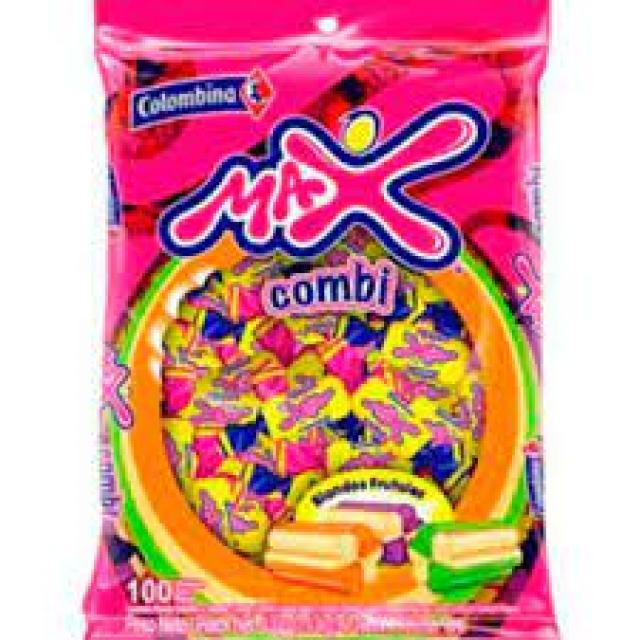Paquete: (83, 0, 564, 640)
